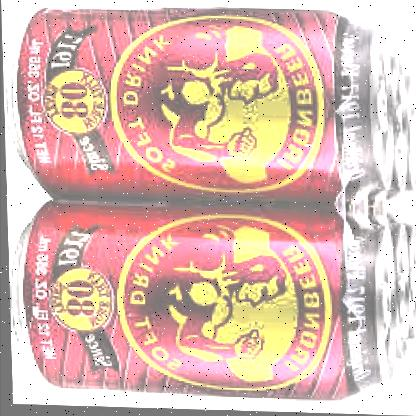Can: (1, 3, 397, 209), (6, 200, 398, 406), (372, 49, 406, 206), (376, 207, 408, 370), (396, 70, 416, 198), (400, 220, 416, 346)
